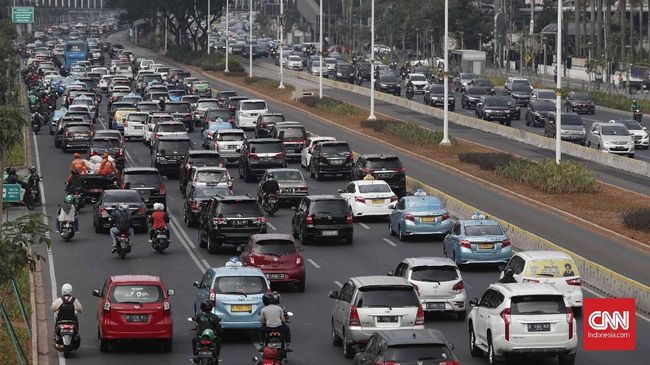plate: (126, 313, 147, 321), (528, 324, 549, 331), (377, 315, 398, 322), (231, 305, 251, 312), (426, 302, 445, 309), (266, 273, 283, 279), (478, 243, 494, 249), (198, 351, 212, 357), (59, 328, 73, 334), (268, 342, 281, 348), (232, 220, 247, 225), (372, 198, 384, 204), (421, 216, 435, 221), (117, 236, 128, 242), (377, 172, 389, 177), (60, 227, 71, 232), (260, 156, 271, 161), (90, 187, 101, 192), (169, 155, 180, 160), (323, 231, 336, 235), (331, 159, 341, 164), (226, 144, 236, 149), (138, 190, 150, 194), (156, 234, 166, 238), (206, 182, 216, 186), (72, 194, 82, 198), (282, 188, 291, 192), (134, 125, 142, 129), (286, 149, 294, 152), (250, 113, 257, 116)
